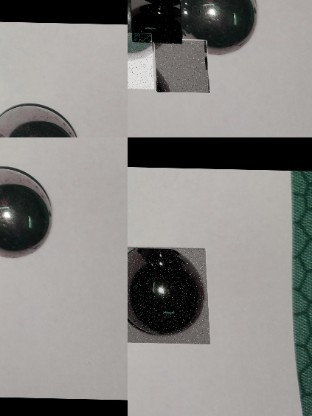ironball: (127, 245, 207, 343), (0, 163, 52, 263), (180, 1, 256, 57), (0, 97, 73, 138), (127, 0, 179, 42)
